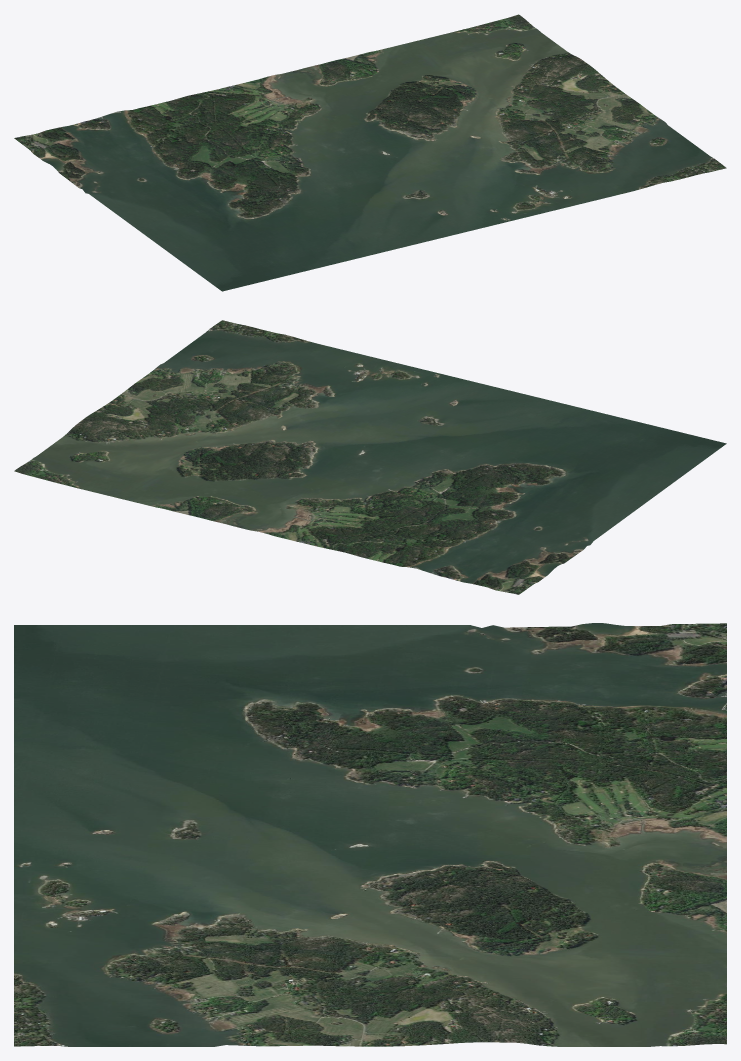
The model's file is IsoPukki.fbx.
3 renders of one model, top to bottom at view 1: azimuth 30°, elevation 25°; view 2: azimuth 150°, elevation 25°; view 3: azimuth 270°, elevation 25°, orthographic. The views are drawn at different scales.
Visible parts, largest first — view 1: EXPORT_GOOGLE_SAT_WM; view 2: EXPORT_GOOGLE_SAT_WM; view 3: EXPORT_GOOGLE_SAT_WM.
Boxes of the visible parts, x1,y1,x2,y2 form: EXPORT_GOOGLE_SAT_WM: (14,14,726,291); EXPORT_GOOGLE_SAT_WM: (14,320,726,594); EXPORT_GOOGLE_SAT_WM: (14,623,726,1046).
Size of the model in its own units: 856095 by 10067 by 611496.
